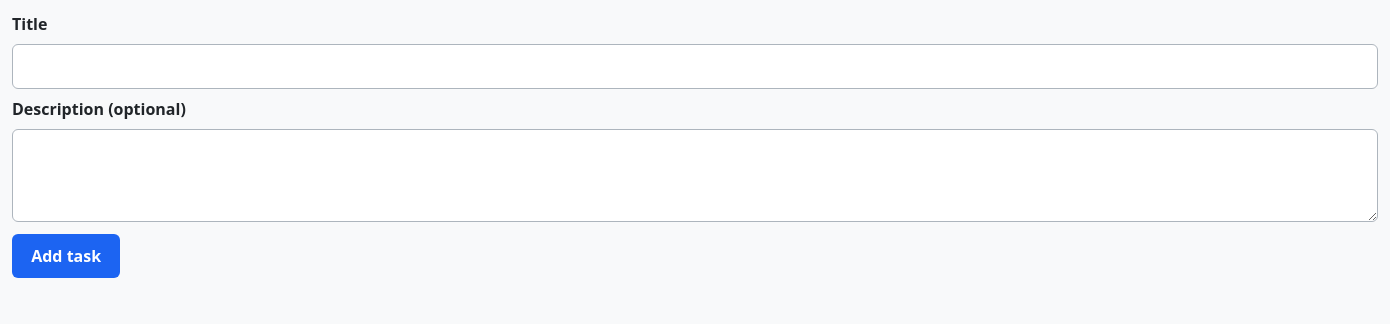
TaskForm › server errors › uses a generic message for an unexpected error
This screenshot has width=1390, height=324.
In the field labelled "Title": (695, 67) [12, 44, 1378, 89], type "Buy milk"
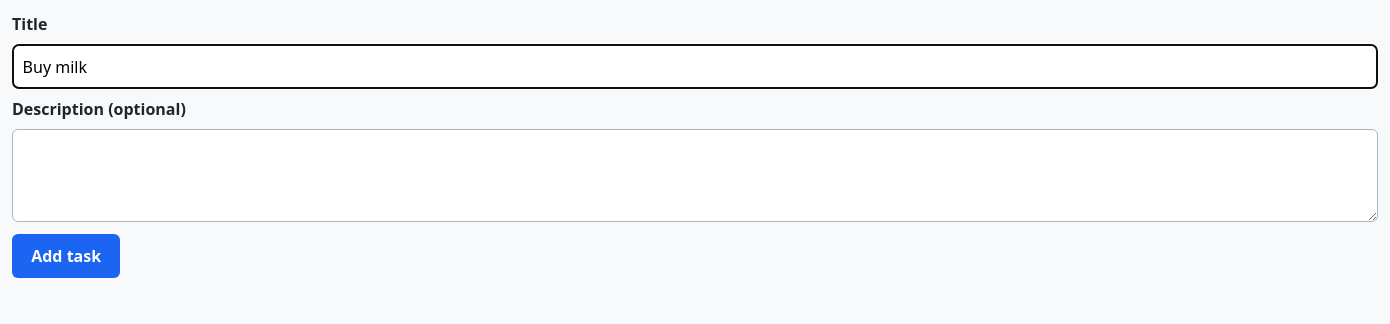
Click the button "Add task": (66, 256) [12, 234, 120, 278]
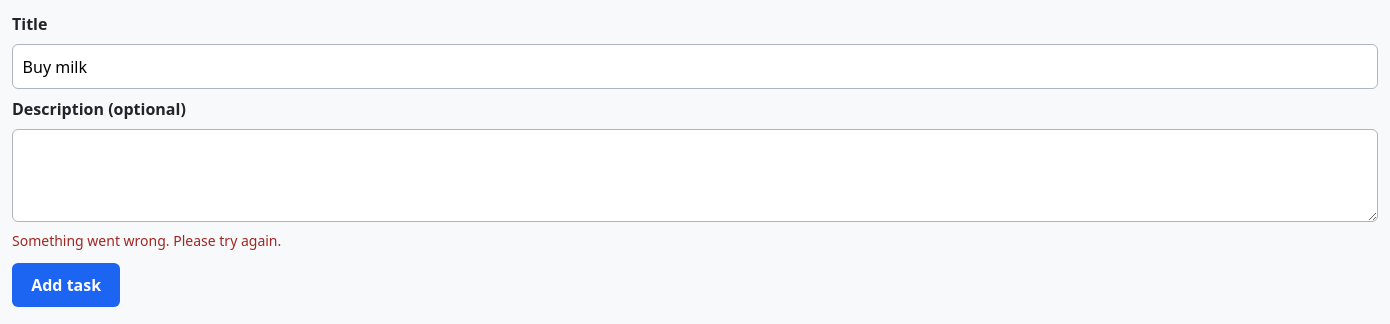
Check: the message shows "Something went wrong", box [12, 231, 281, 250]
